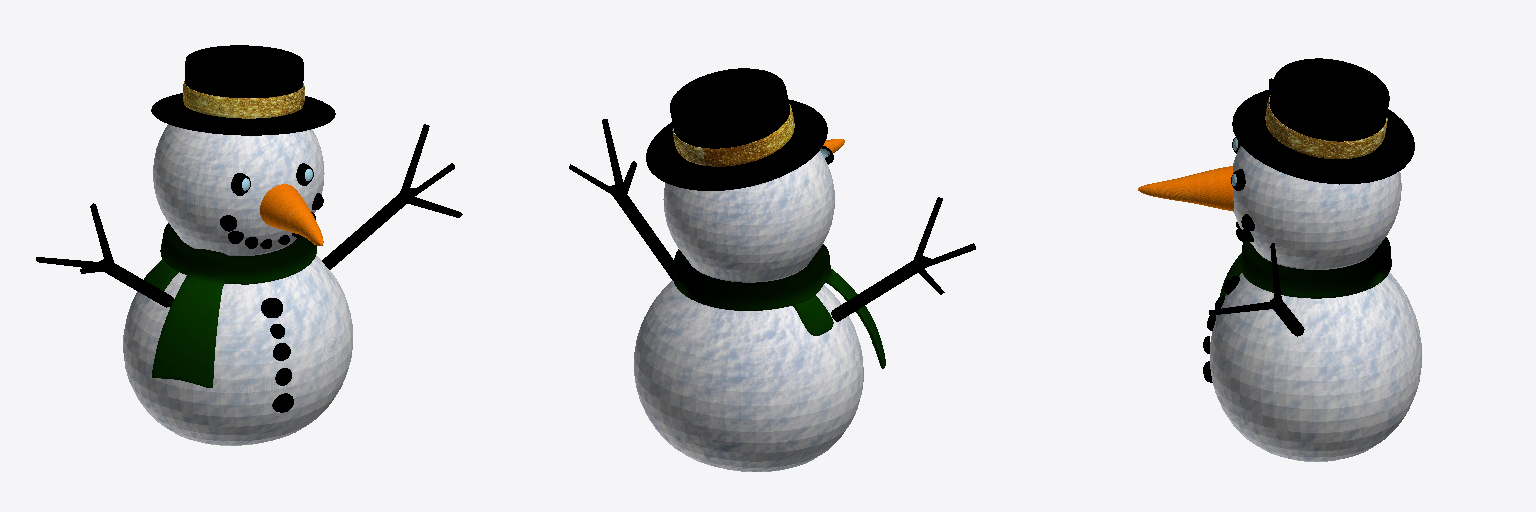
3 views of the same model, side by side, from view 1: azimuth 30°, elevation 25°; view 2: azimuth 150°, elevation 25°; view 3: azimuth 270°, elevation 25° (orthographic).
Size of the model in its own units: 4.36 by 3.85 by 2.71.
Materials: 8 (5 with a texture image).